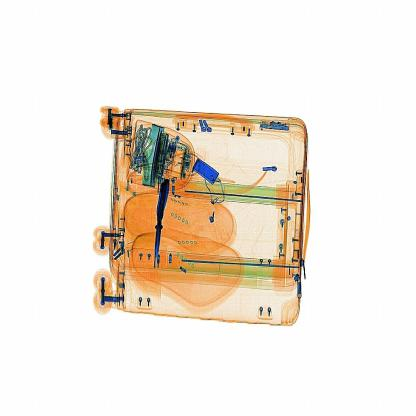gun: (150, 155, 176, 272)
